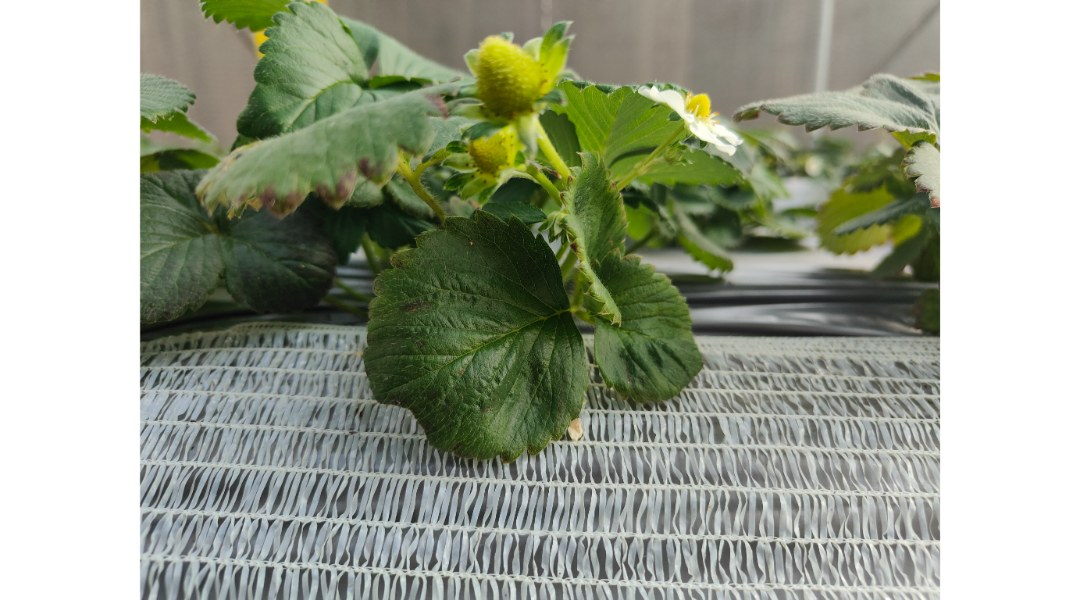berry: (452, 20, 571, 121), (432, 130, 526, 184)
flower: (640, 47, 744, 159)
strain: (528, 117, 571, 176)
